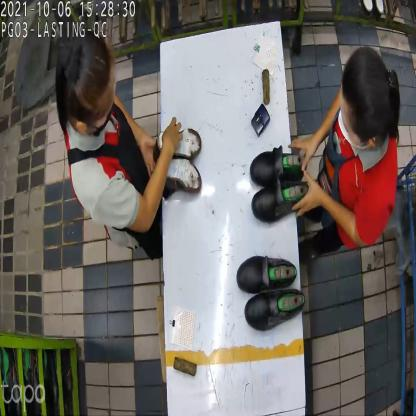shoes: (235, 254, 306, 333), (249, 146, 310, 224), (150, 115, 204, 200)
stamp: (160, 116, 184, 154), (252, 102, 271, 137)
